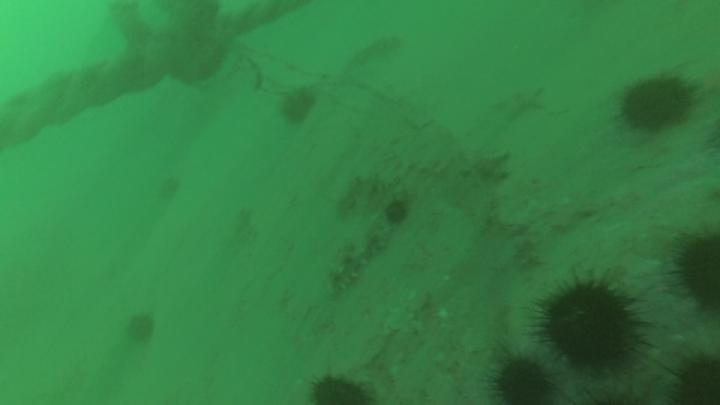echinus: (521, 270, 655, 385), (653, 222, 720, 325), (612, 68, 701, 136), (481, 344, 570, 405), (647, 339, 720, 405), (303, 366, 382, 405), (126, 310, 155, 348)
holothurian: (328, 197, 393, 301)
starfish: (497, 82, 547, 123)
